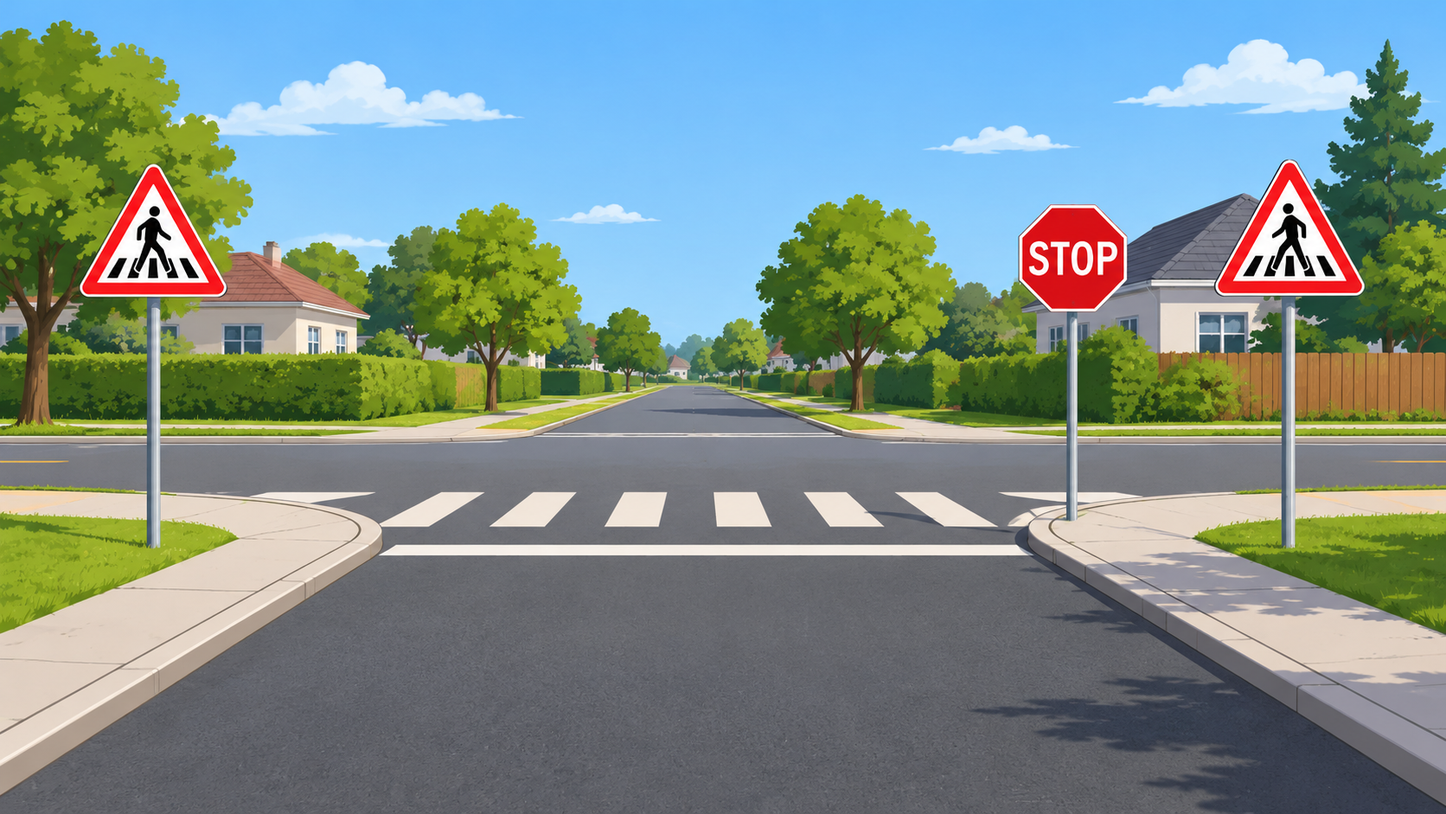crossing_warning_sign: (1215, 158, 1366, 296), (80, 165, 227, 297)
stop_sign: (1020, 205, 1128, 311)
zebra_crossing: (379, 484, 1068, 529)
